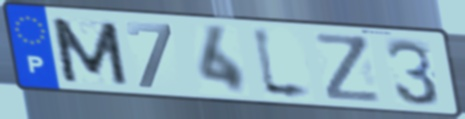3: (384, 35, 441, 108)
4: (195, 22, 251, 98)
7: (124, 20, 175, 90)
L: (249, 23, 319, 105)
M: (47, 15, 132, 87)
Z: (312, 31, 385, 105)
